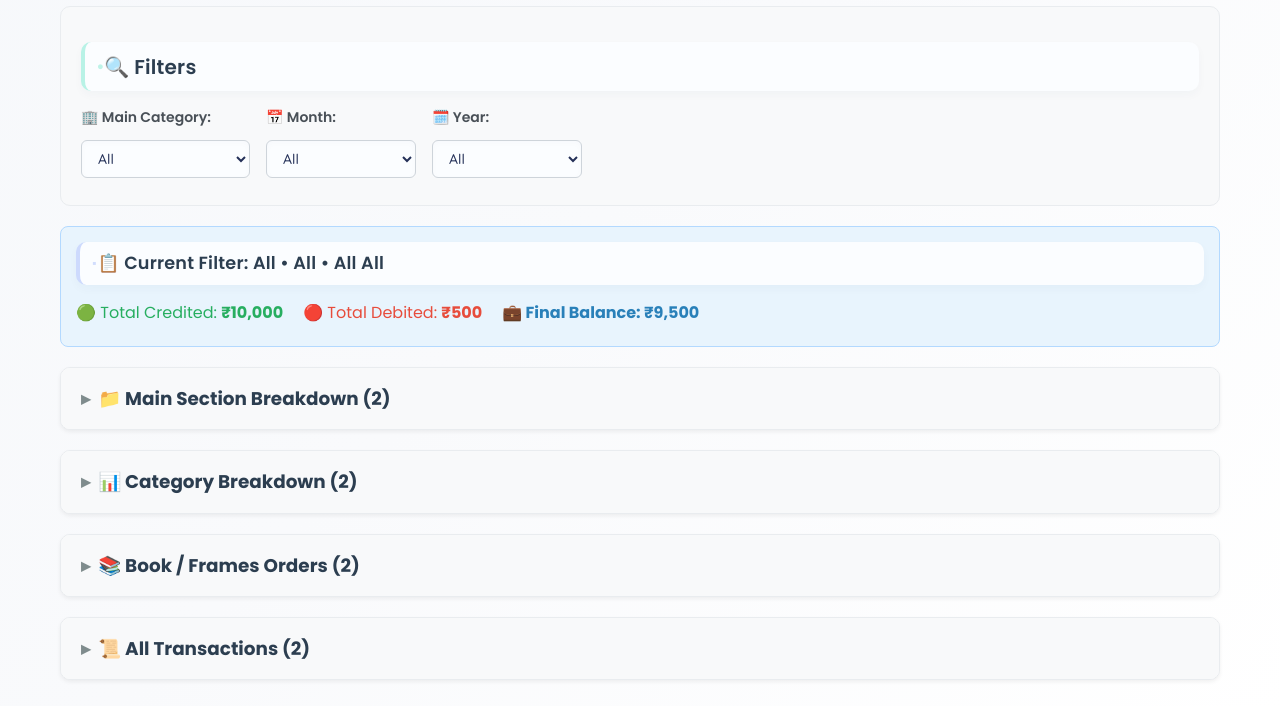
Scenario: panels are collapsed by default and open on header click
(page scrolled)
Click the text "📁 Main Section Breakdown (2)".
click(244, 398)  # box [98, 384, 390, 413]
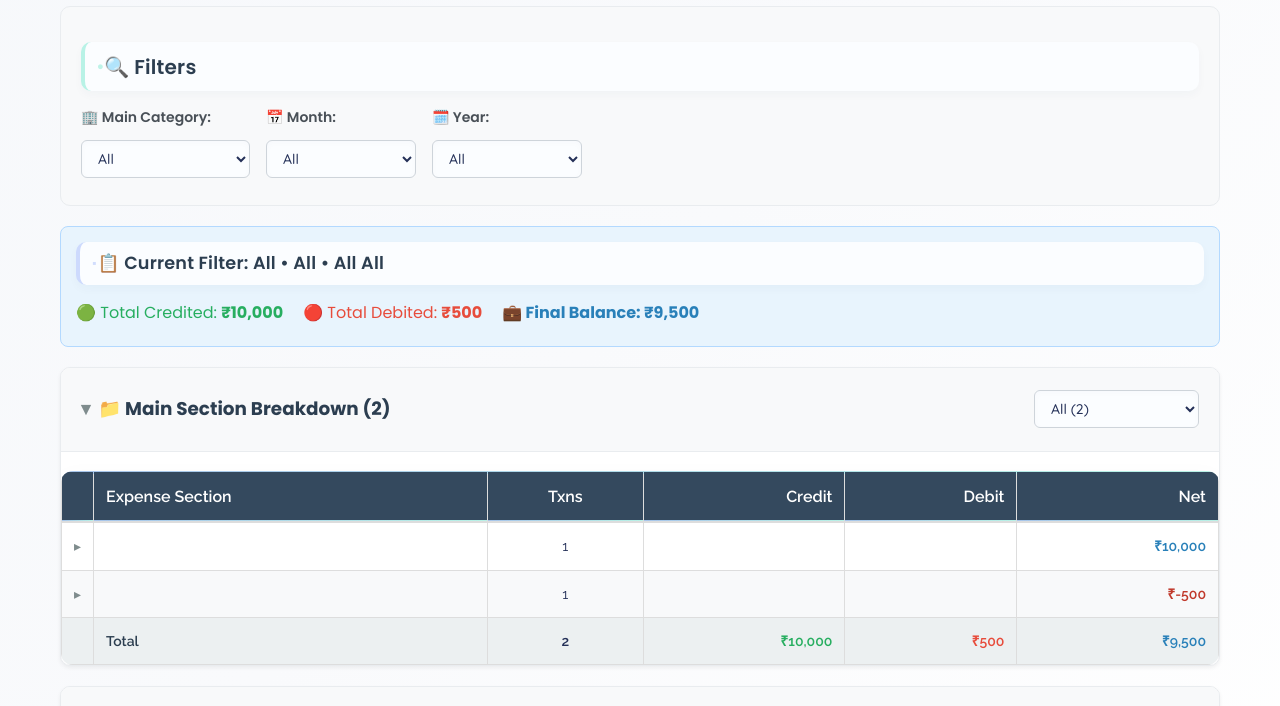
Expected: the cell "Wardha Office" is shown, [94, 570, 487, 618]
Expected: the cell "Hyderabad Office" is shown, [94, 523, 487, 570]
